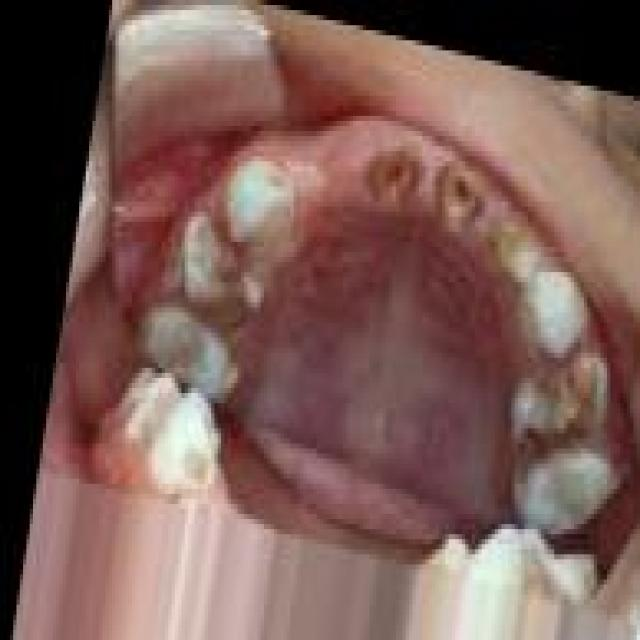caries: (505, 342, 611, 464), (182, 242, 256, 344), (428, 150, 495, 247), (358, 133, 422, 219)
